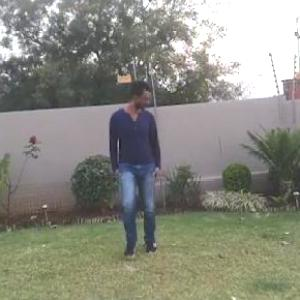follow: (108, 76, 169, 270)
